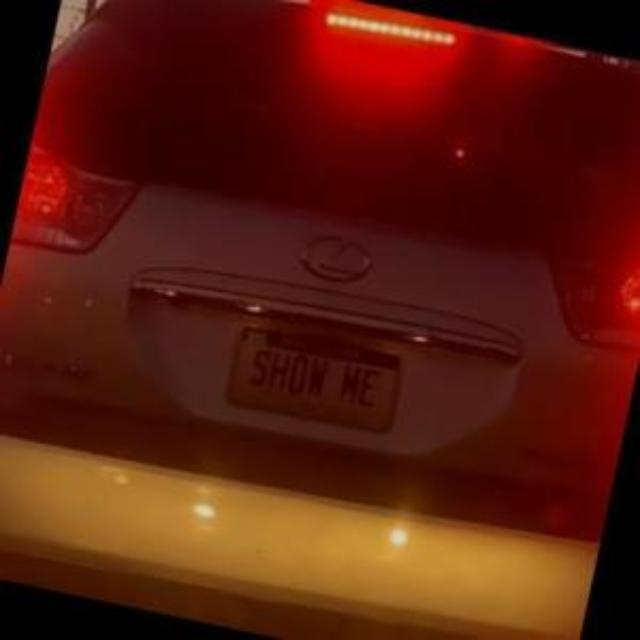License Plate: (221, 320, 407, 438)
